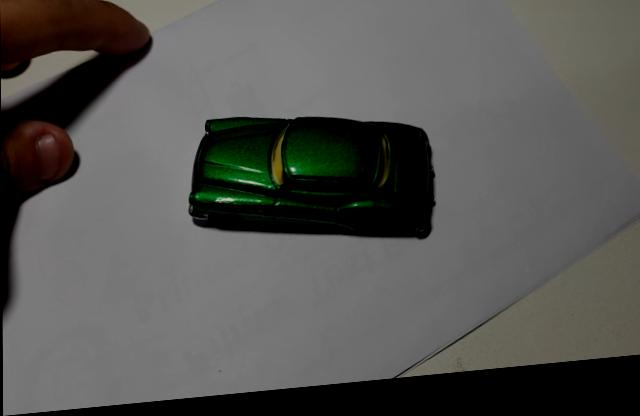06_MASERATI: (187, 122, 436, 248)
